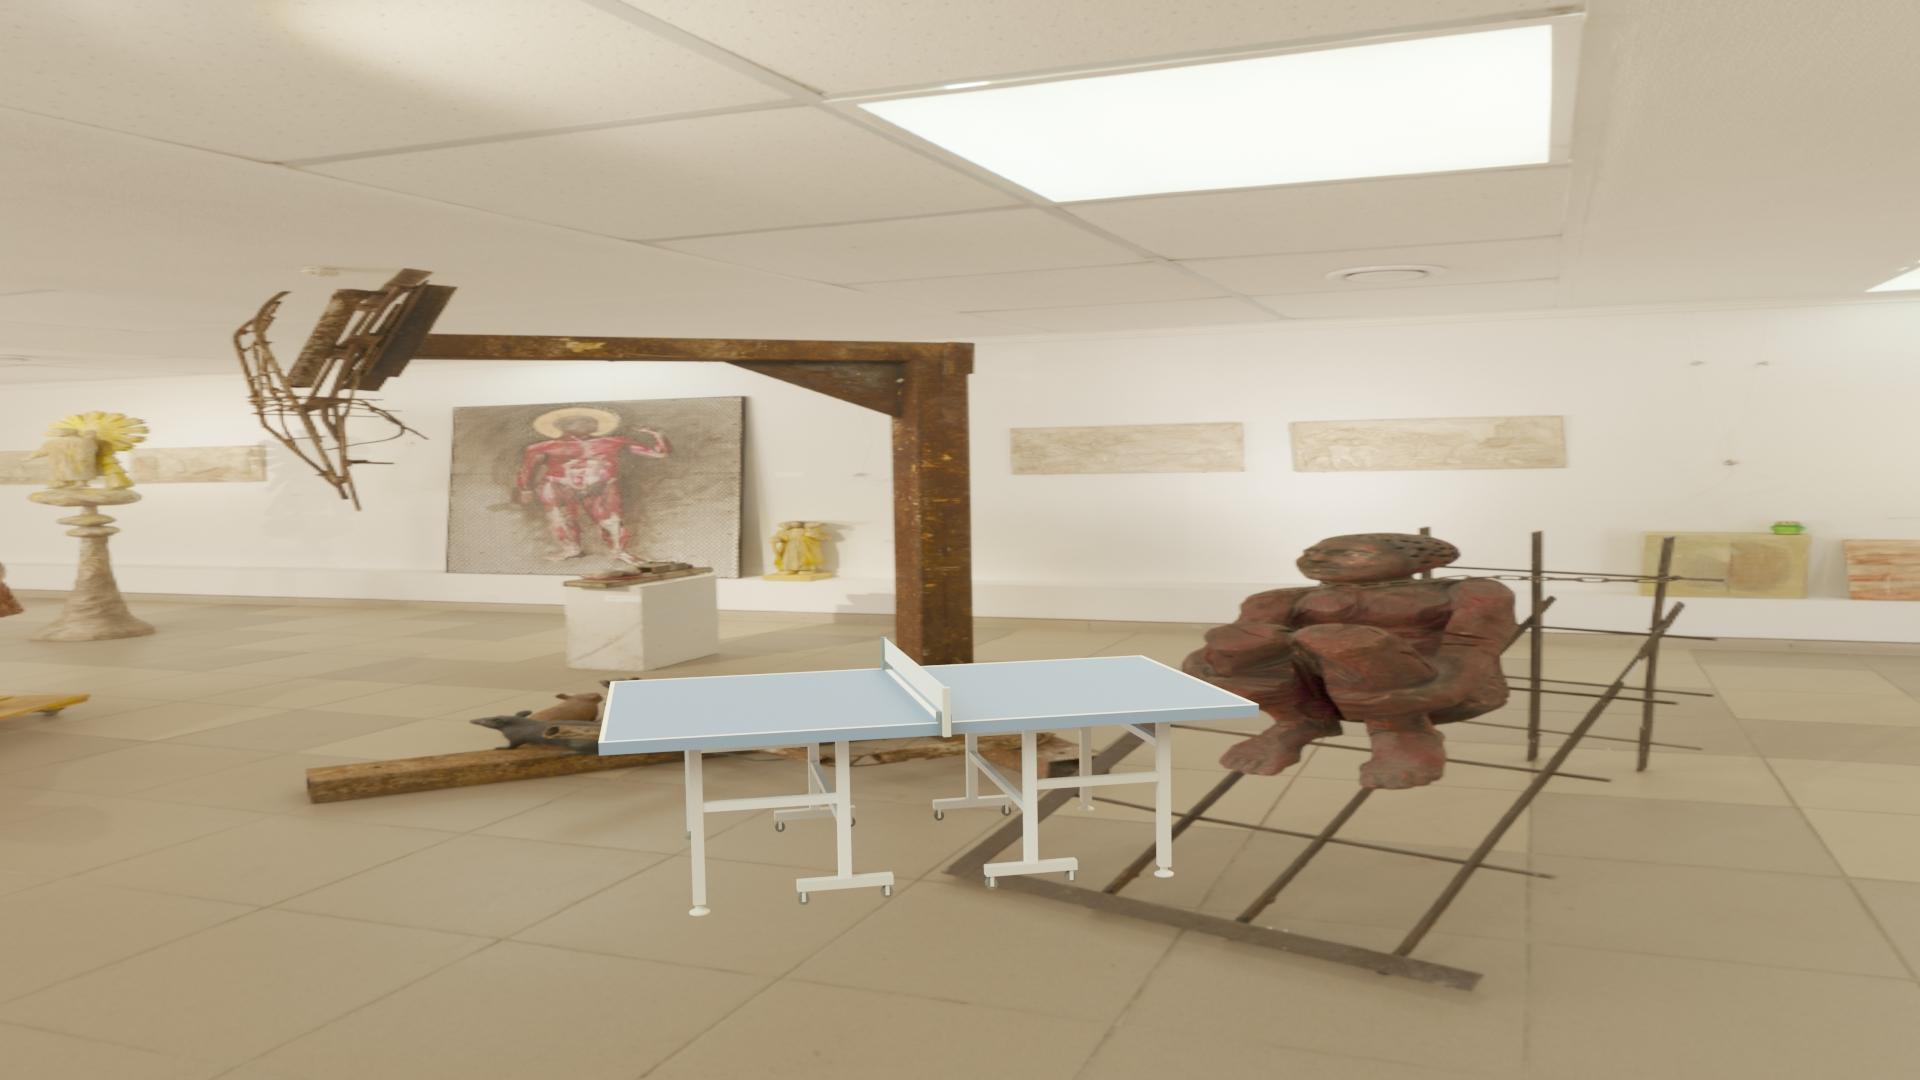table: (604, 657, 1253, 741)
